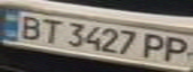2: (100, 26, 121, 56)
3: (60, 20, 87, 50)
4: (81, 24, 103, 53)
7: (118, 28, 142, 57)
B: (12, 12, 48, 41)
P: (139, 30, 172, 62), (160, 35, 193, 65)
T: (36, 16, 66, 45)
